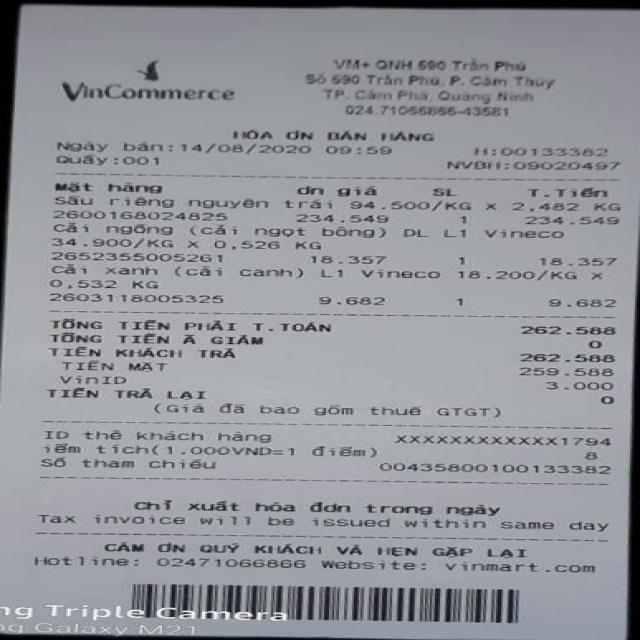Date: (179, 142, 315, 161)
Store_Name: (52, 46, 260, 116)
Total_Amount: (45, 312, 622, 338)
